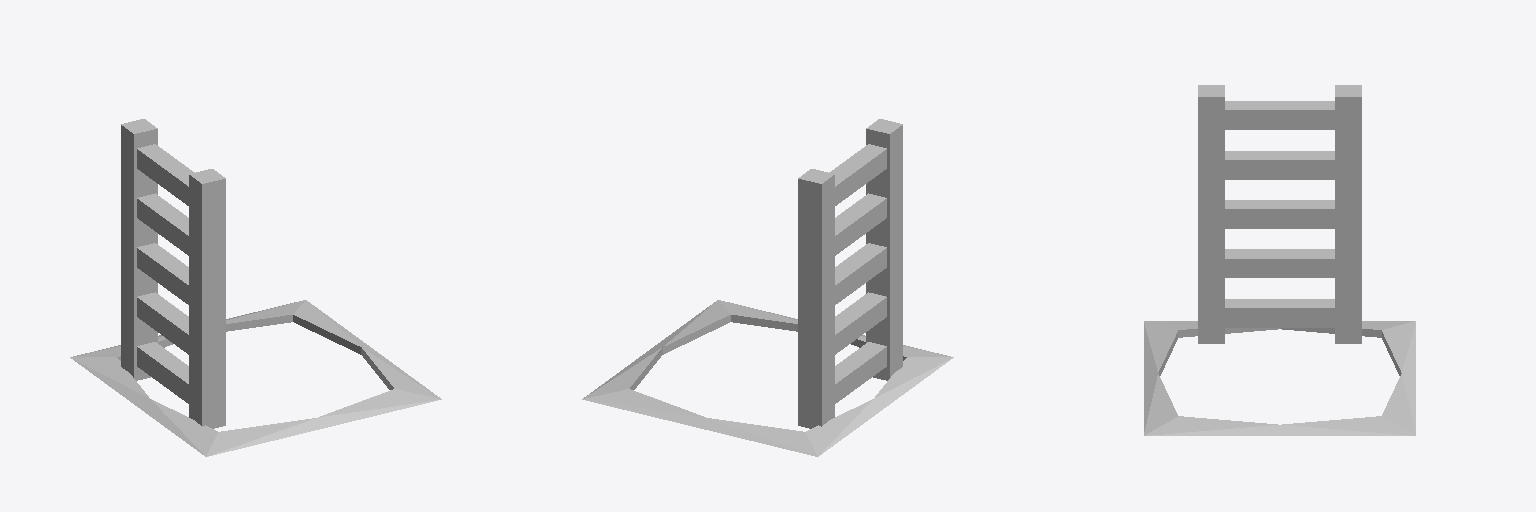
Rendered from up_down_stair.obj.
3 renders of one model, left to right at view 1: azimuth 30°, elevation 25°; view 2: azimuth 150°, elevation 25°; view 3: azimuth 270°, elevation 25°, orthographic.
Parts seen in each view (by area): view 1: Cube.001; view 2: Cube.001; view 3: Cube.001.
Boxes of the visible parts, box(x1,y1,x2,y2) form: Cube.001: box(70, 119, 441, 456); Cube.001: box(582, 119, 953, 456); Cube.001: box(1144, 85, 1415, 435).
Bounding box in the file's own units: 1 × 1.01 × 1.